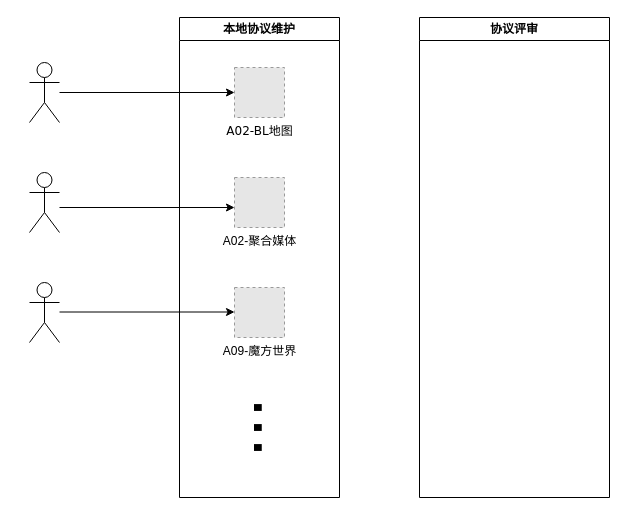
The diagram is 627 pixels wide and 515 high, and some of its shapes have lost their labels. Grey dashed boxes stand in for pictures. Each missing label, with the centre of its shape:
产品经理1: the point at 44,92
产品经理2: the point at 44,202
产品经理3: the point at 44,312
